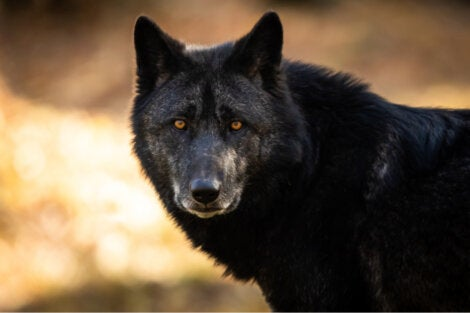Lobo: (126, 17, 435, 281)
